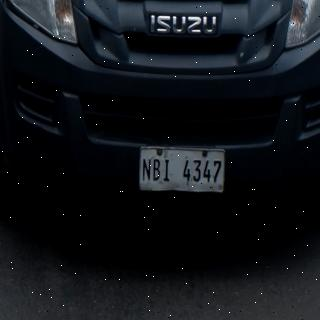license: (140, 148, 226, 194)
